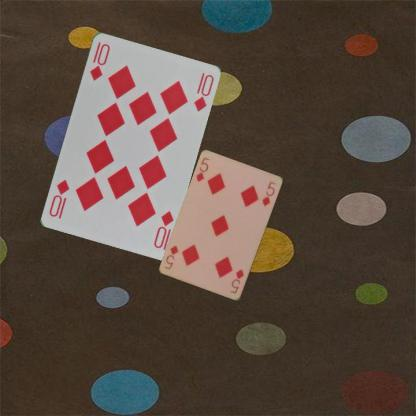10d: (87, 38, 111, 81), (151, 208, 175, 250)
5d: (227, 267, 246, 295), (193, 155, 211, 183)
